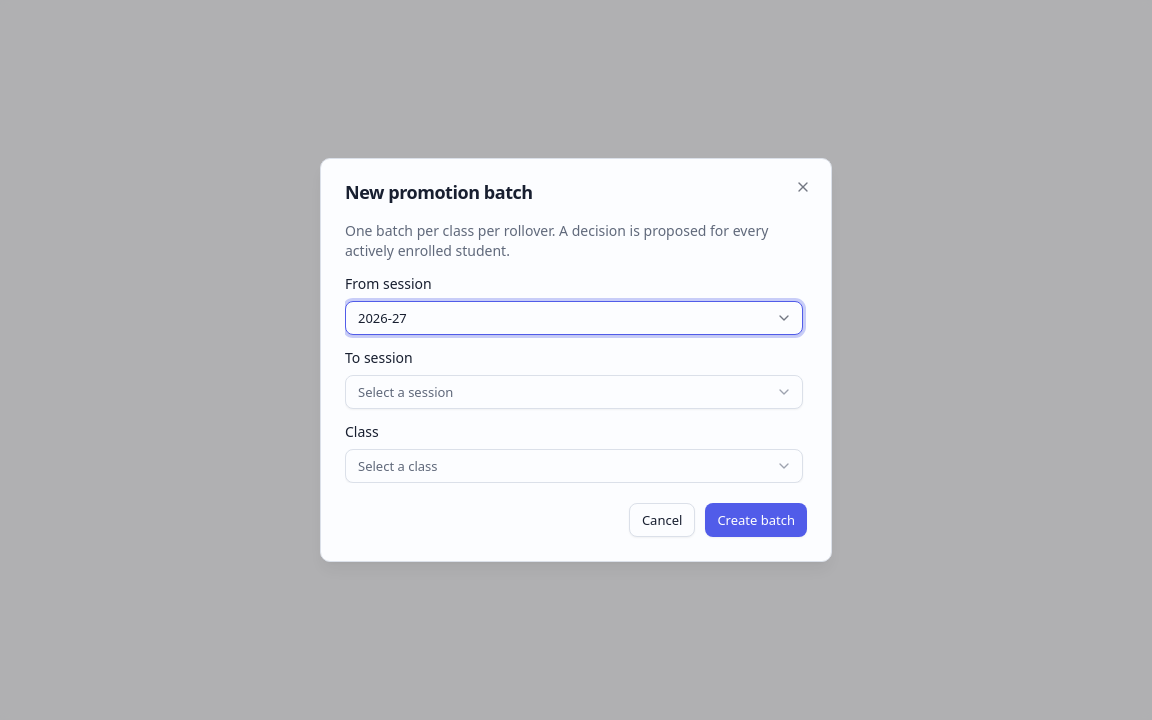
CreatePromotionBatchDialog › the choices › offers every session as the source, a closed one included
Step 1. Click the dropdown named "From session" → point(382, 318), box left=345, top=301, right=803, bottom=335
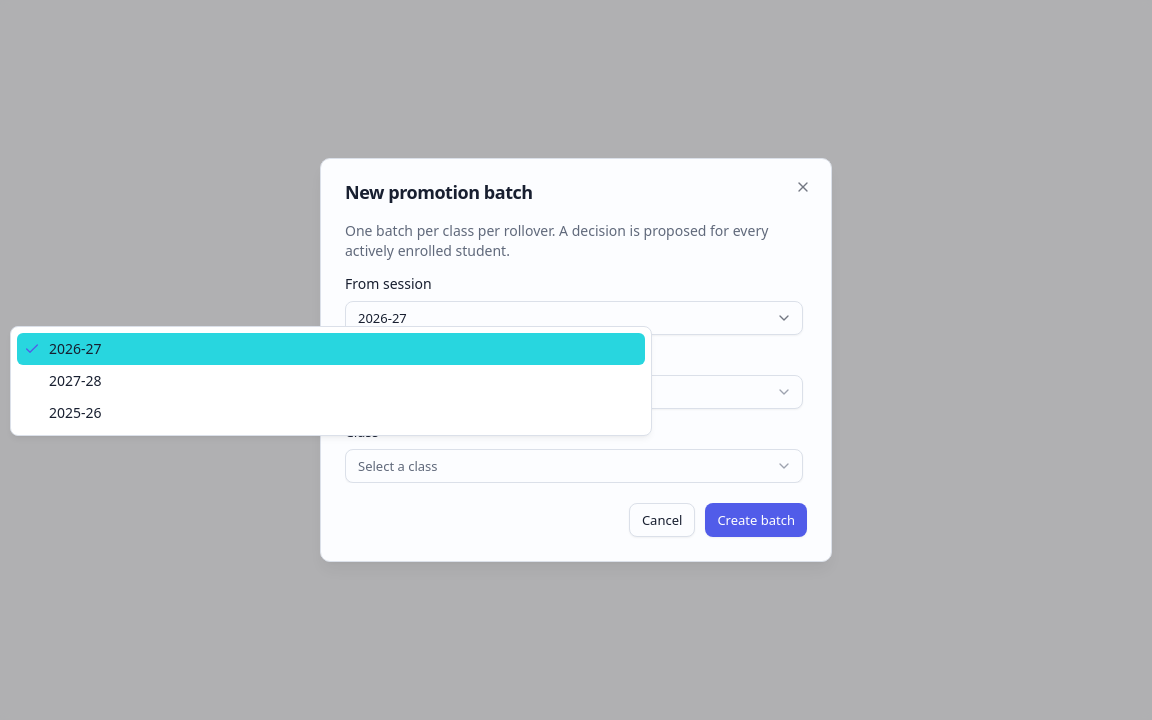
Expected: the option "2026-27" is shown, left=17, top=333, right=645, bottom=365
Expected: the option "2027-28" is shown, left=49, top=371, right=102, bottom=390
Expected: the option "2025-26" is shown, left=49, top=403, right=102, bottom=422
